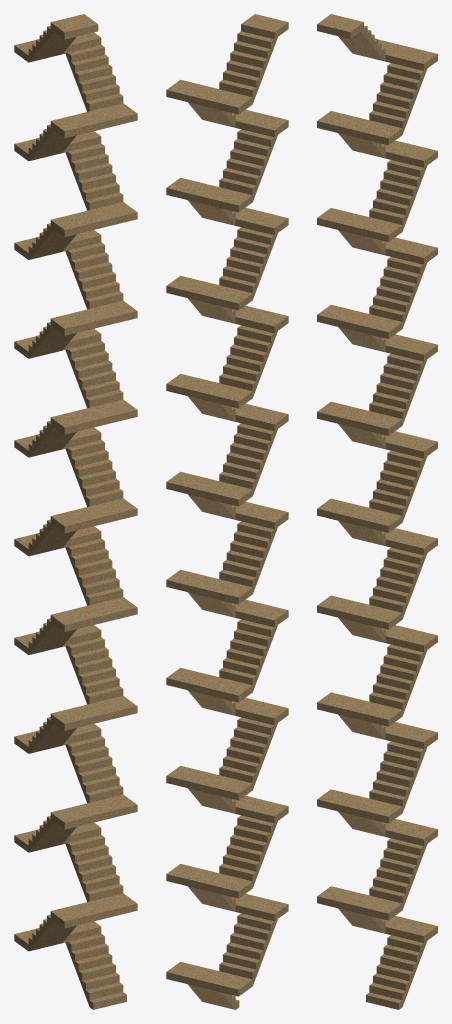
Rendered from stairs.gltf.
The picture shows the model from 3 angles, left to right: view 1: azimuth 30°, elevation 25°; view 2: azimuth 150°, elevation 25°; view 3: azimuth 330°, elevation 25°; orthographic projection.
Parts seen in each view (by area): view 1: vis; view 2: vis; view 3: vis.
Boxes of the visible parts, <box> form: vis: <box>14,14,137,1009</box>; vis: <box>166,14,288,1009</box>; vis: <box>317,14,437,1009</box>.
Size of what is drawn, in the model's own units: 5.4 by 70.5 by 6.45.
Materials: 1 (1 with a texture image).
